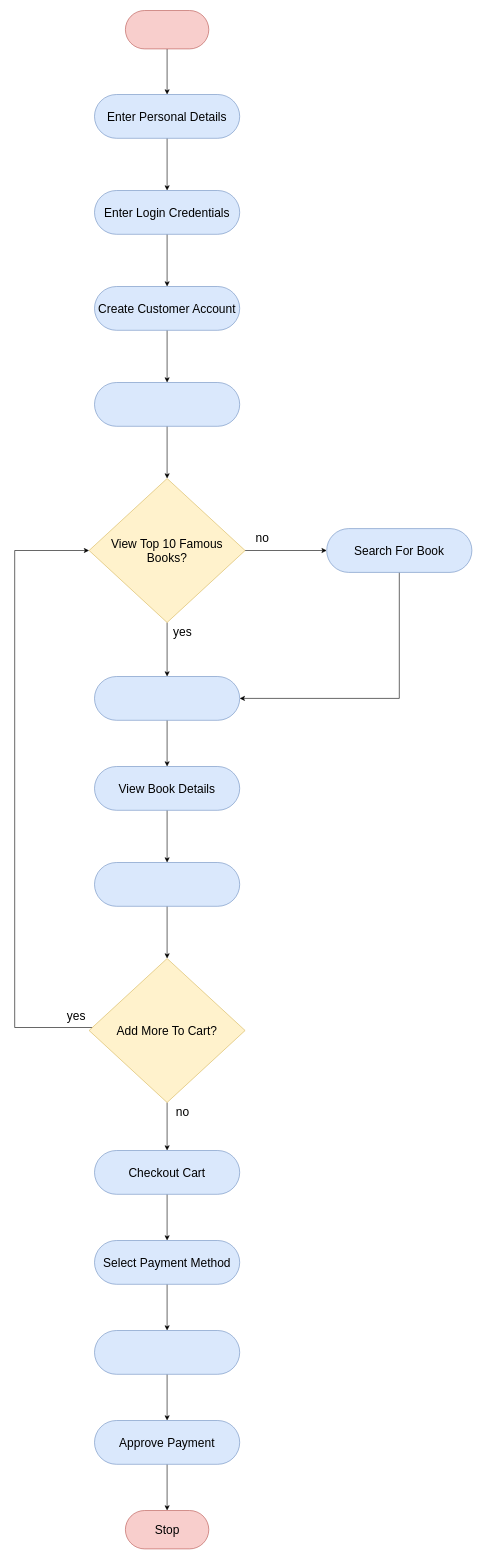
The diagram is 482 pixels wide and 1559 high, and some of its shapes have lost their labels. The shapes that lost their labels are listed below. From the top down, each one's centre as x and y in pixels, then its label:
At (x=167, y=29): "Start".
At (x=167, y=404): "Login Customer".
At (x=167, y=698): "Select Book".
At (x=167, y=884): "Add Book To Cart".
At (x=167, y=1352): "Enter Payment Details".
